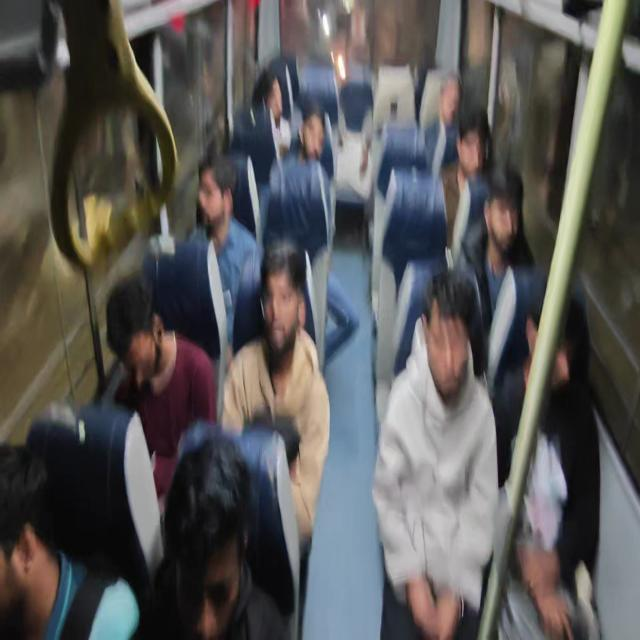person: (6, 18, 604, 637), (372, 268, 499, 638), (498, 291, 601, 638), (221, 238, 331, 548), (143, 151, 264, 421), (144, 431, 290, 638), (456, 165, 546, 484), (105, 272, 217, 520), (0, 441, 140, 638), (25, 399, 164, 597), (282, 98, 359, 369), (141, 235, 230, 422), (187, 152, 264, 356), (234, 56, 299, 238), (441, 107, 493, 267), (423, 70, 462, 178)
